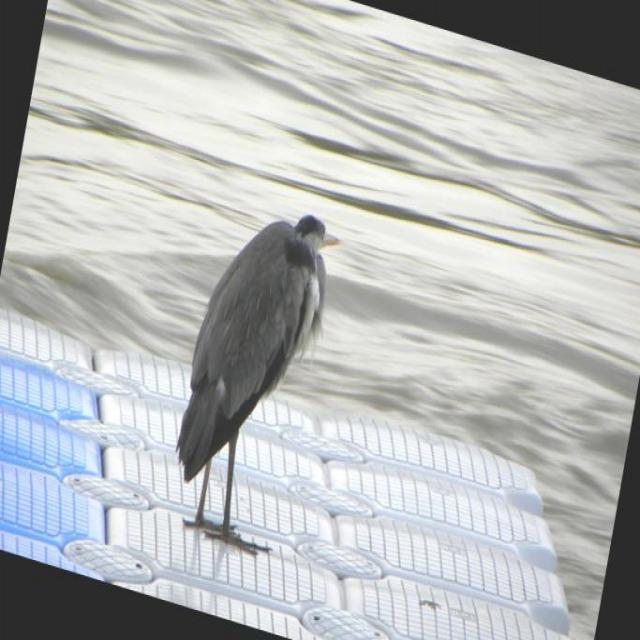flood: (0, 0, 639, 500)
